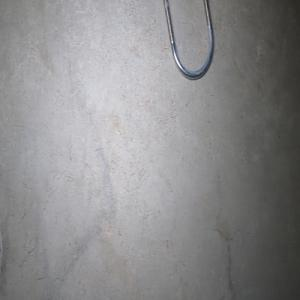ClampPart: (162, 0, 215, 81)
